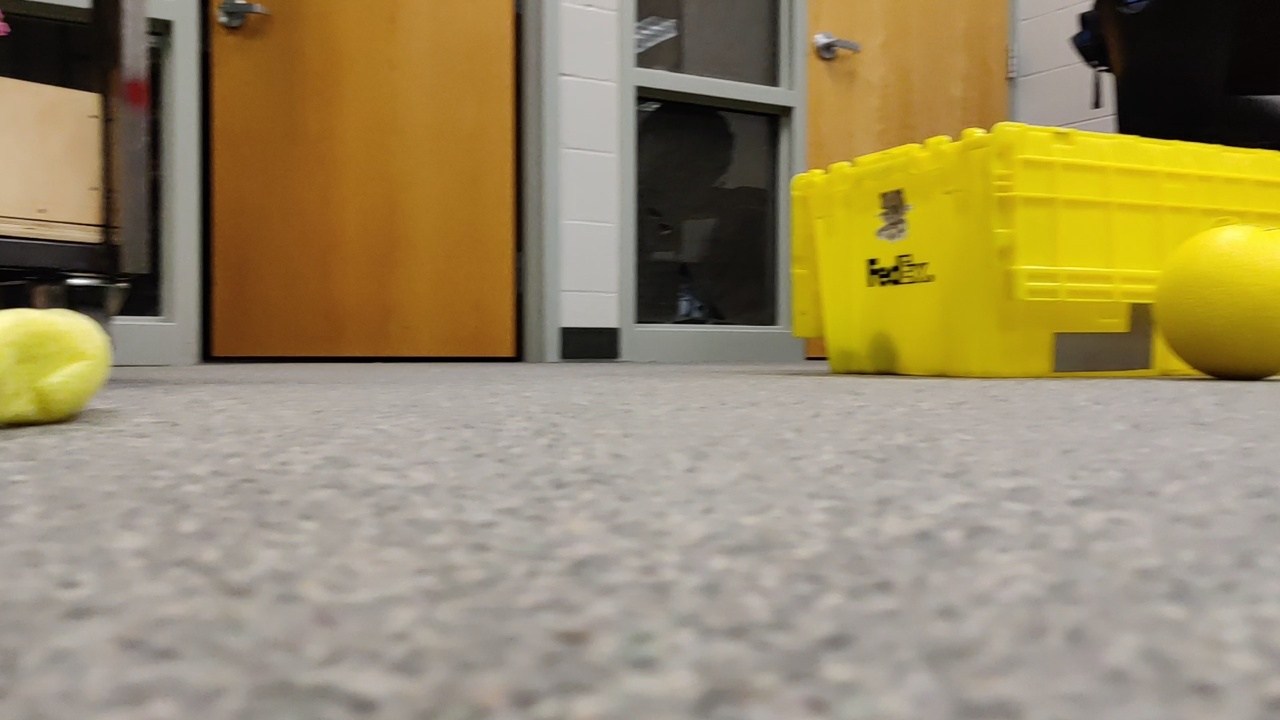Ball: (1157, 222, 1280, 389)
